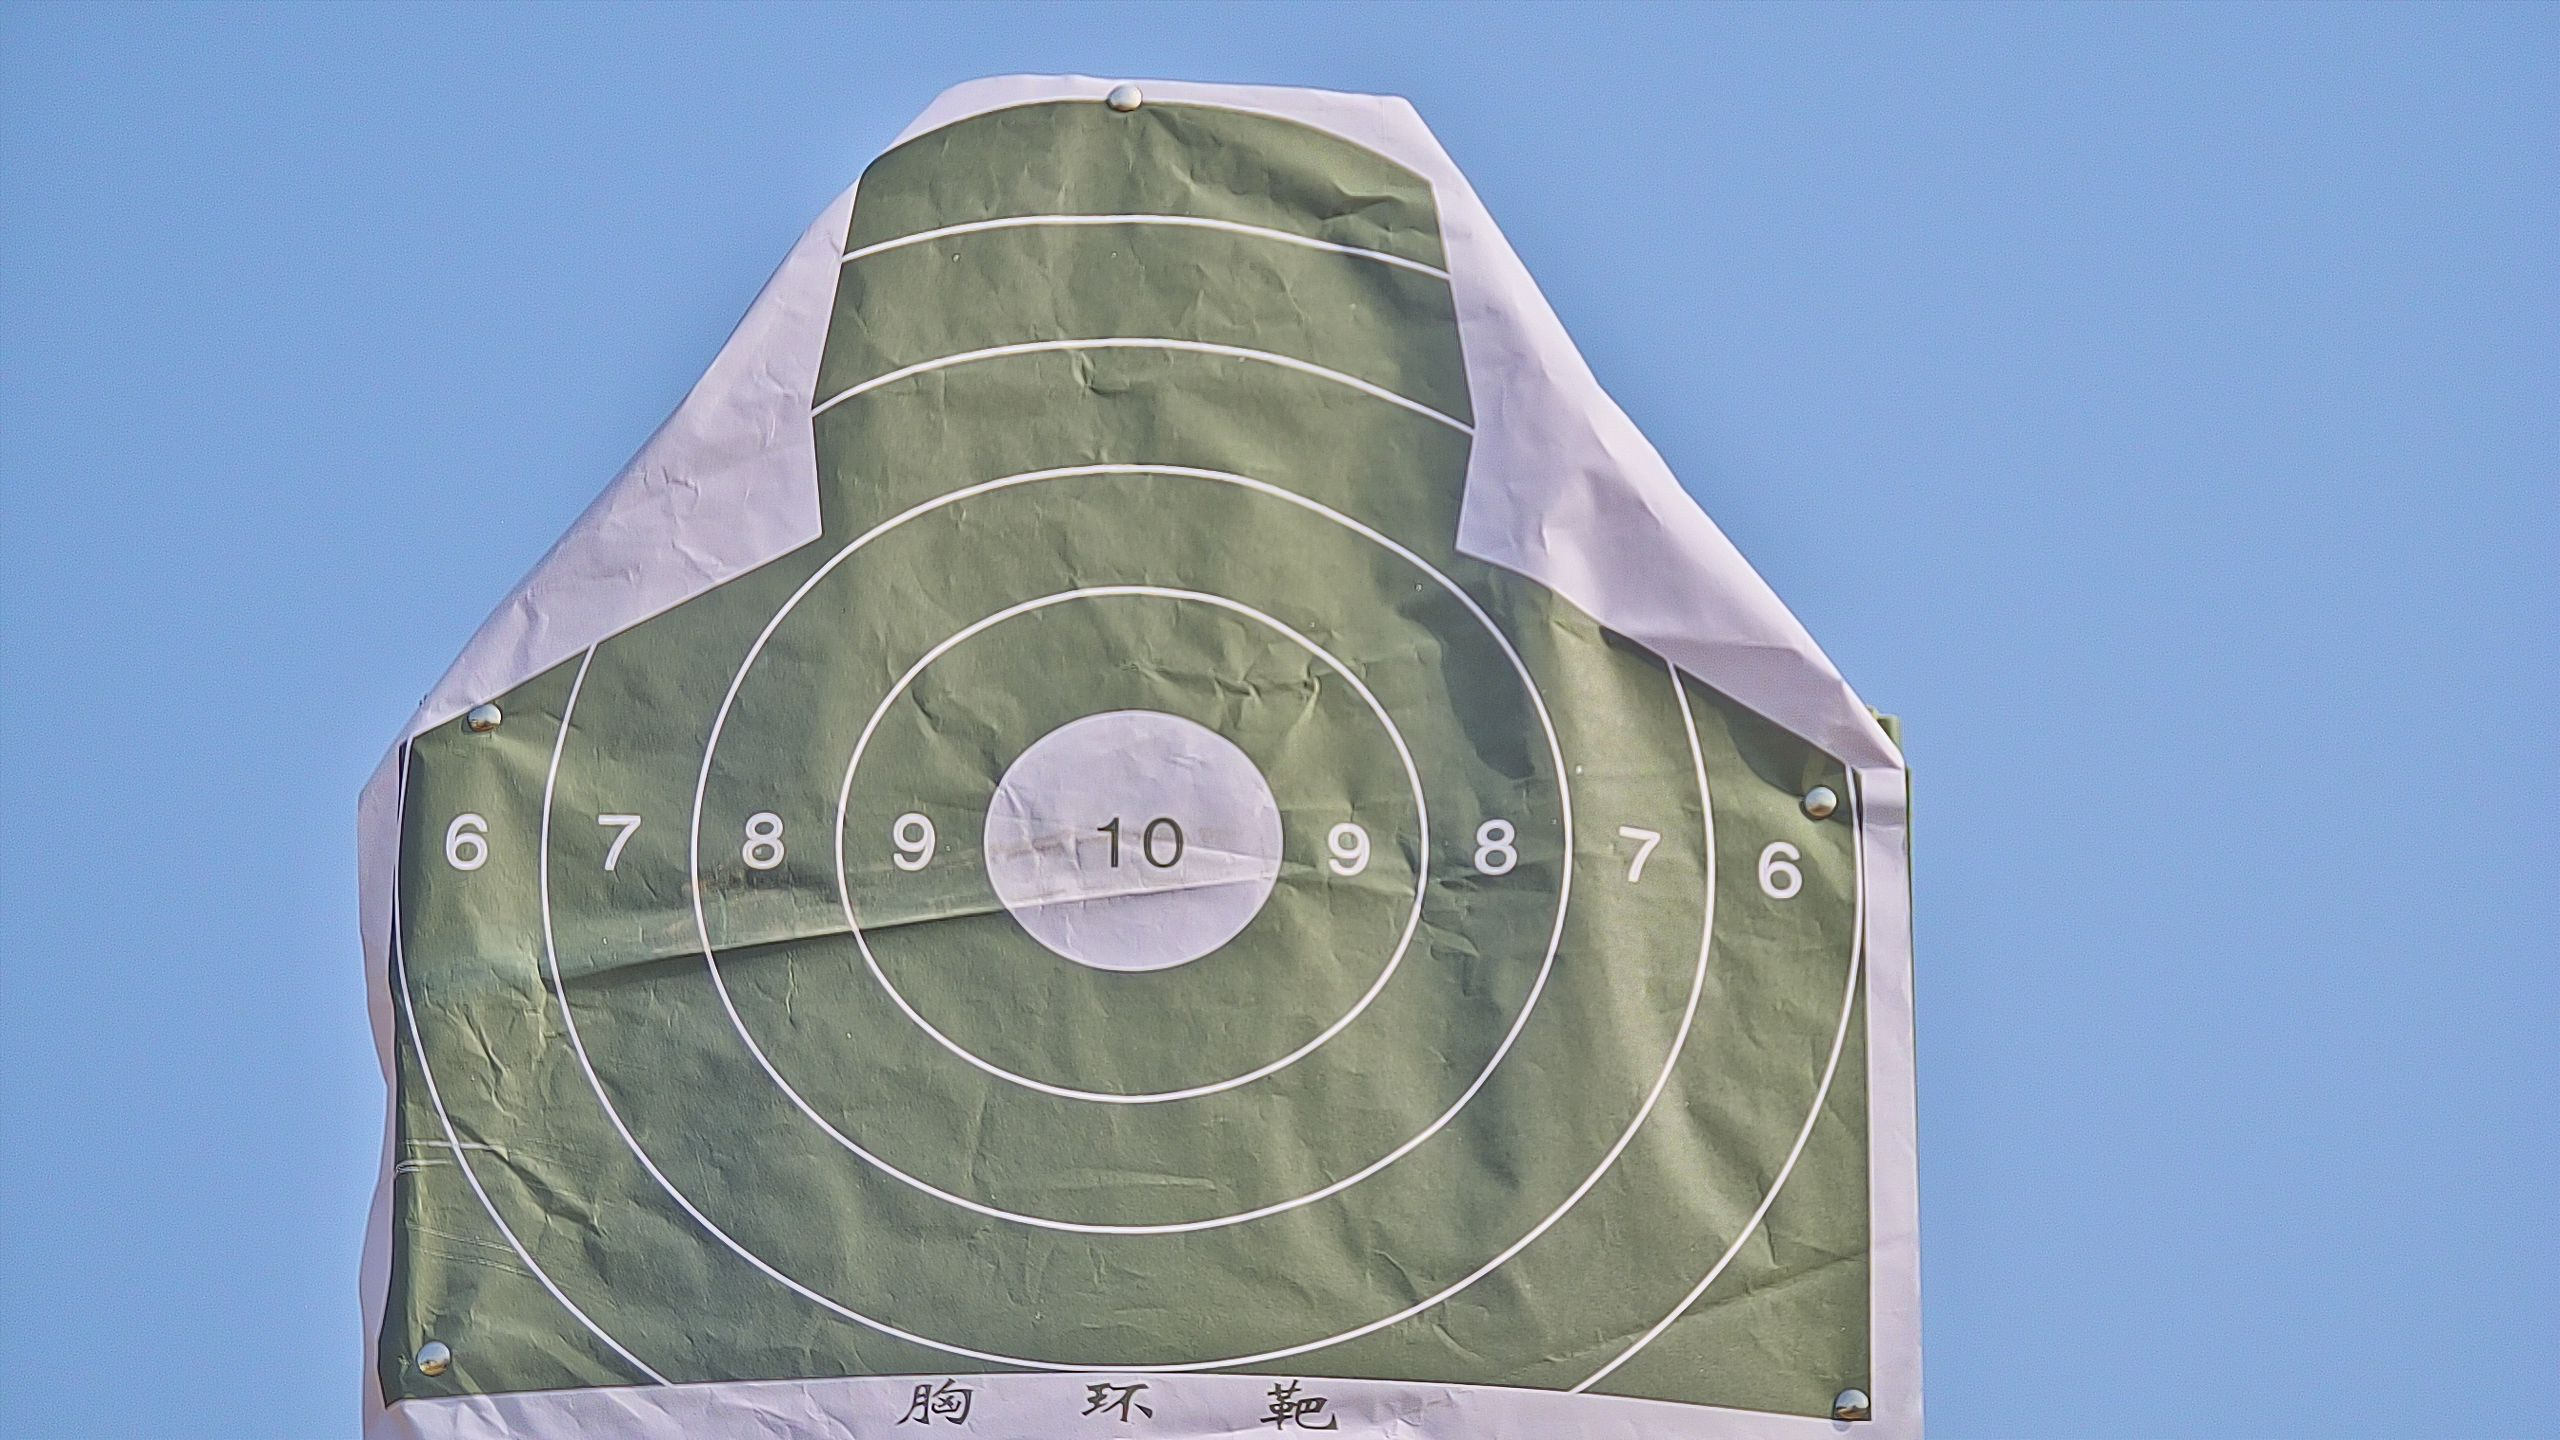target: (364, 102, 1871, 1428)
ten: (983, 702, 1296, 978)
